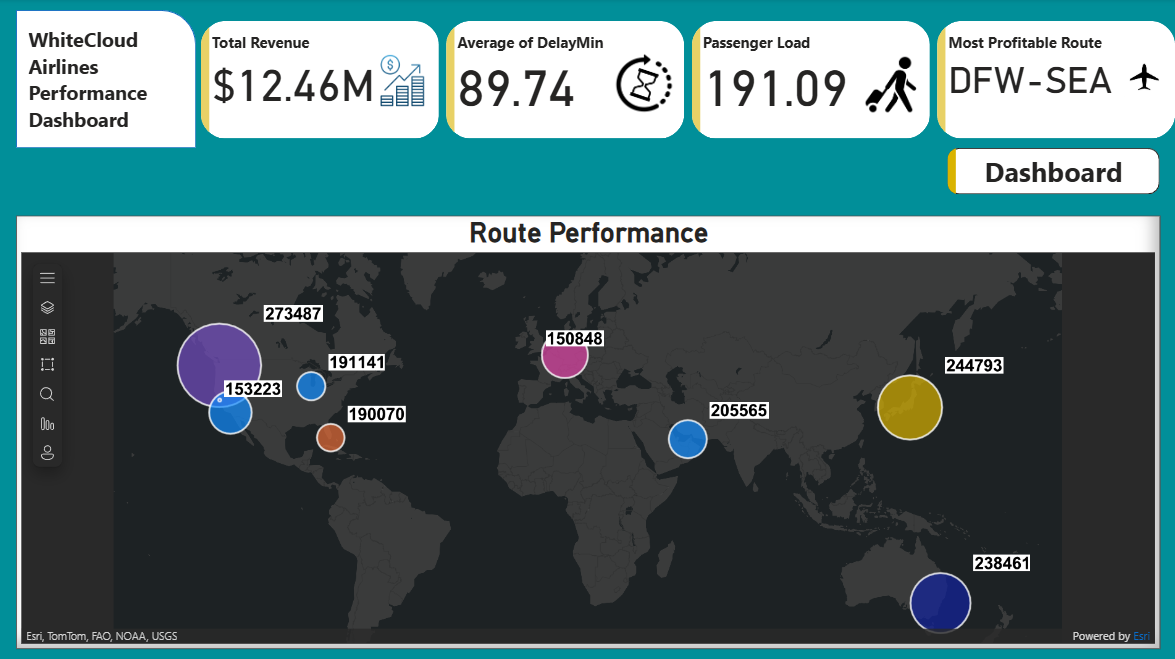

This screenshot's page, from the dashboard's own definition file:
{"tool":"powerbi","page":{"name":"Map","canvas":[1280,720],"ordinal":1},"visuals":[{"type":"cardVisual","fields":{"Data":["Sum(AirlinePerformance.Revenue)","Avg(AirlinePerformance.DelayMin)","Avg(AirlinePerformance.Passengers)","AirlinePerformance.Most Profitable Route"]},"box":[213.5,18.9,1065.8,138],"z":0},{"type":"shape","box":[19.4,13,194.3,149],"z":1000},{"type":"textbox","box":[27.5,24.3,166.8,126.3],"z":2000},{"type":"esriVisual","title":"Route Performance","fields":{"Latitude":["AirlinePerformance.DestinationLatitude"],"Longitude":["AirlinePerformance.DestinationLongitude"],"Size":["Sum(AirlinePerformance.Profit)"],"Color":["AirportLookup.City"]},"box":[19.4,234.8,1235.5,468],"z":3000},{"type":"pageNavigator","box":[1025,161.9,229.9,50.2],"z":4000}]}

Visuals, with their boxes in screenshot pixels (x1, y1, x2, y2), scaled from the page's 1280x720 canvas onto the 1175x659 screenshot:
cardVisual - Sum(AirlinePerformance.Revenue) x Avg(AirlinePerformance.DelayMin): rect(196, 17, 1174, 144)
shape: rect(18, 12, 196, 148)
textbox: rect(25, 22, 178, 138)
"Route Performance" esriVisual: rect(18, 215, 1152, 643)
pageNavigator: rect(941, 148, 1152, 194)
